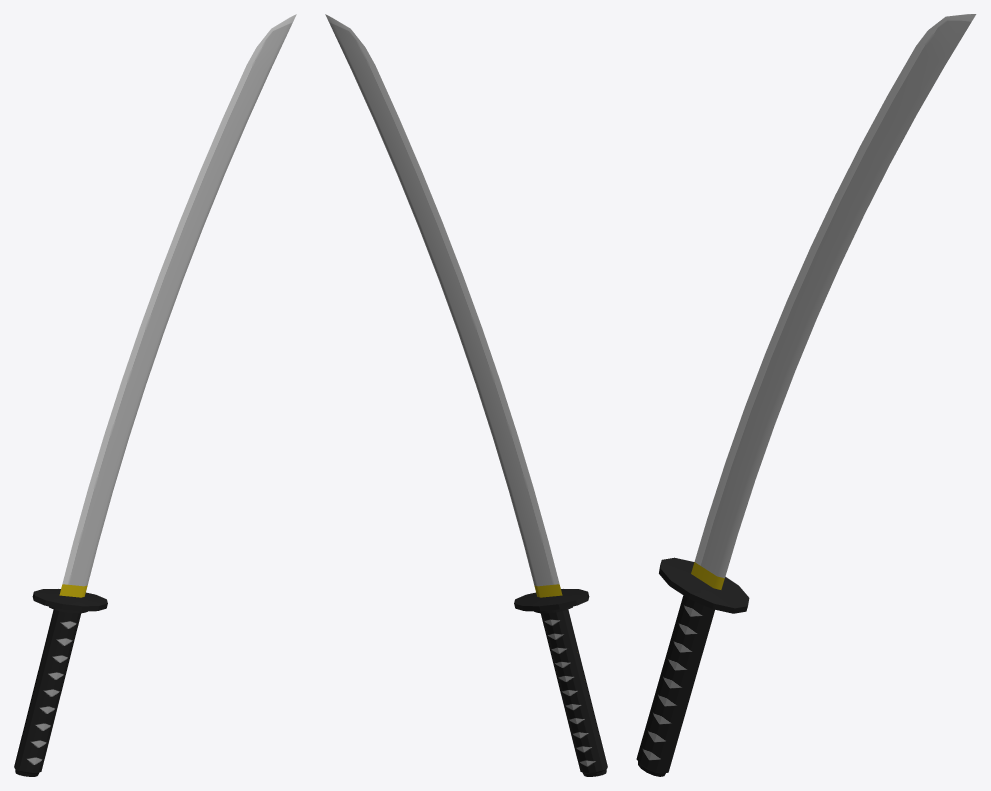
Rendered from Katana.glb.
The picture shows the model from 3 angles, left to right: view 1: azimuth 30°, elevation 25°; view 2: azimuth 150°, elevation 25°; view 3: azimuth 330°, elevation 25°; orthographic projection. The views are drawn at different scales.
Visible parts, largest first — view 1: Katana_Mesh; view 2: Katana_Mesh; view 3: Katana_Mesh.
Boxes of the visible parts, bbox=[...] form: Katana_Mesh: bbox=[14, 14, 296, 776]; Katana_Mesh: bbox=[325, 14, 607, 776]; Katana_Mesh: bbox=[636, 14, 976, 776].
Bounding box in the file's own units: 0.4942 × 1.17 × 0.0724.
Materials: 1 (1 with a texture image).
